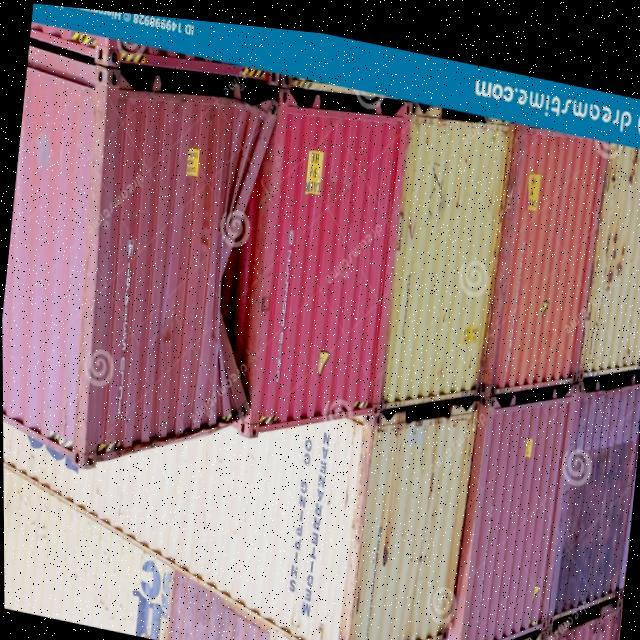dent: (180, 58, 309, 450)
